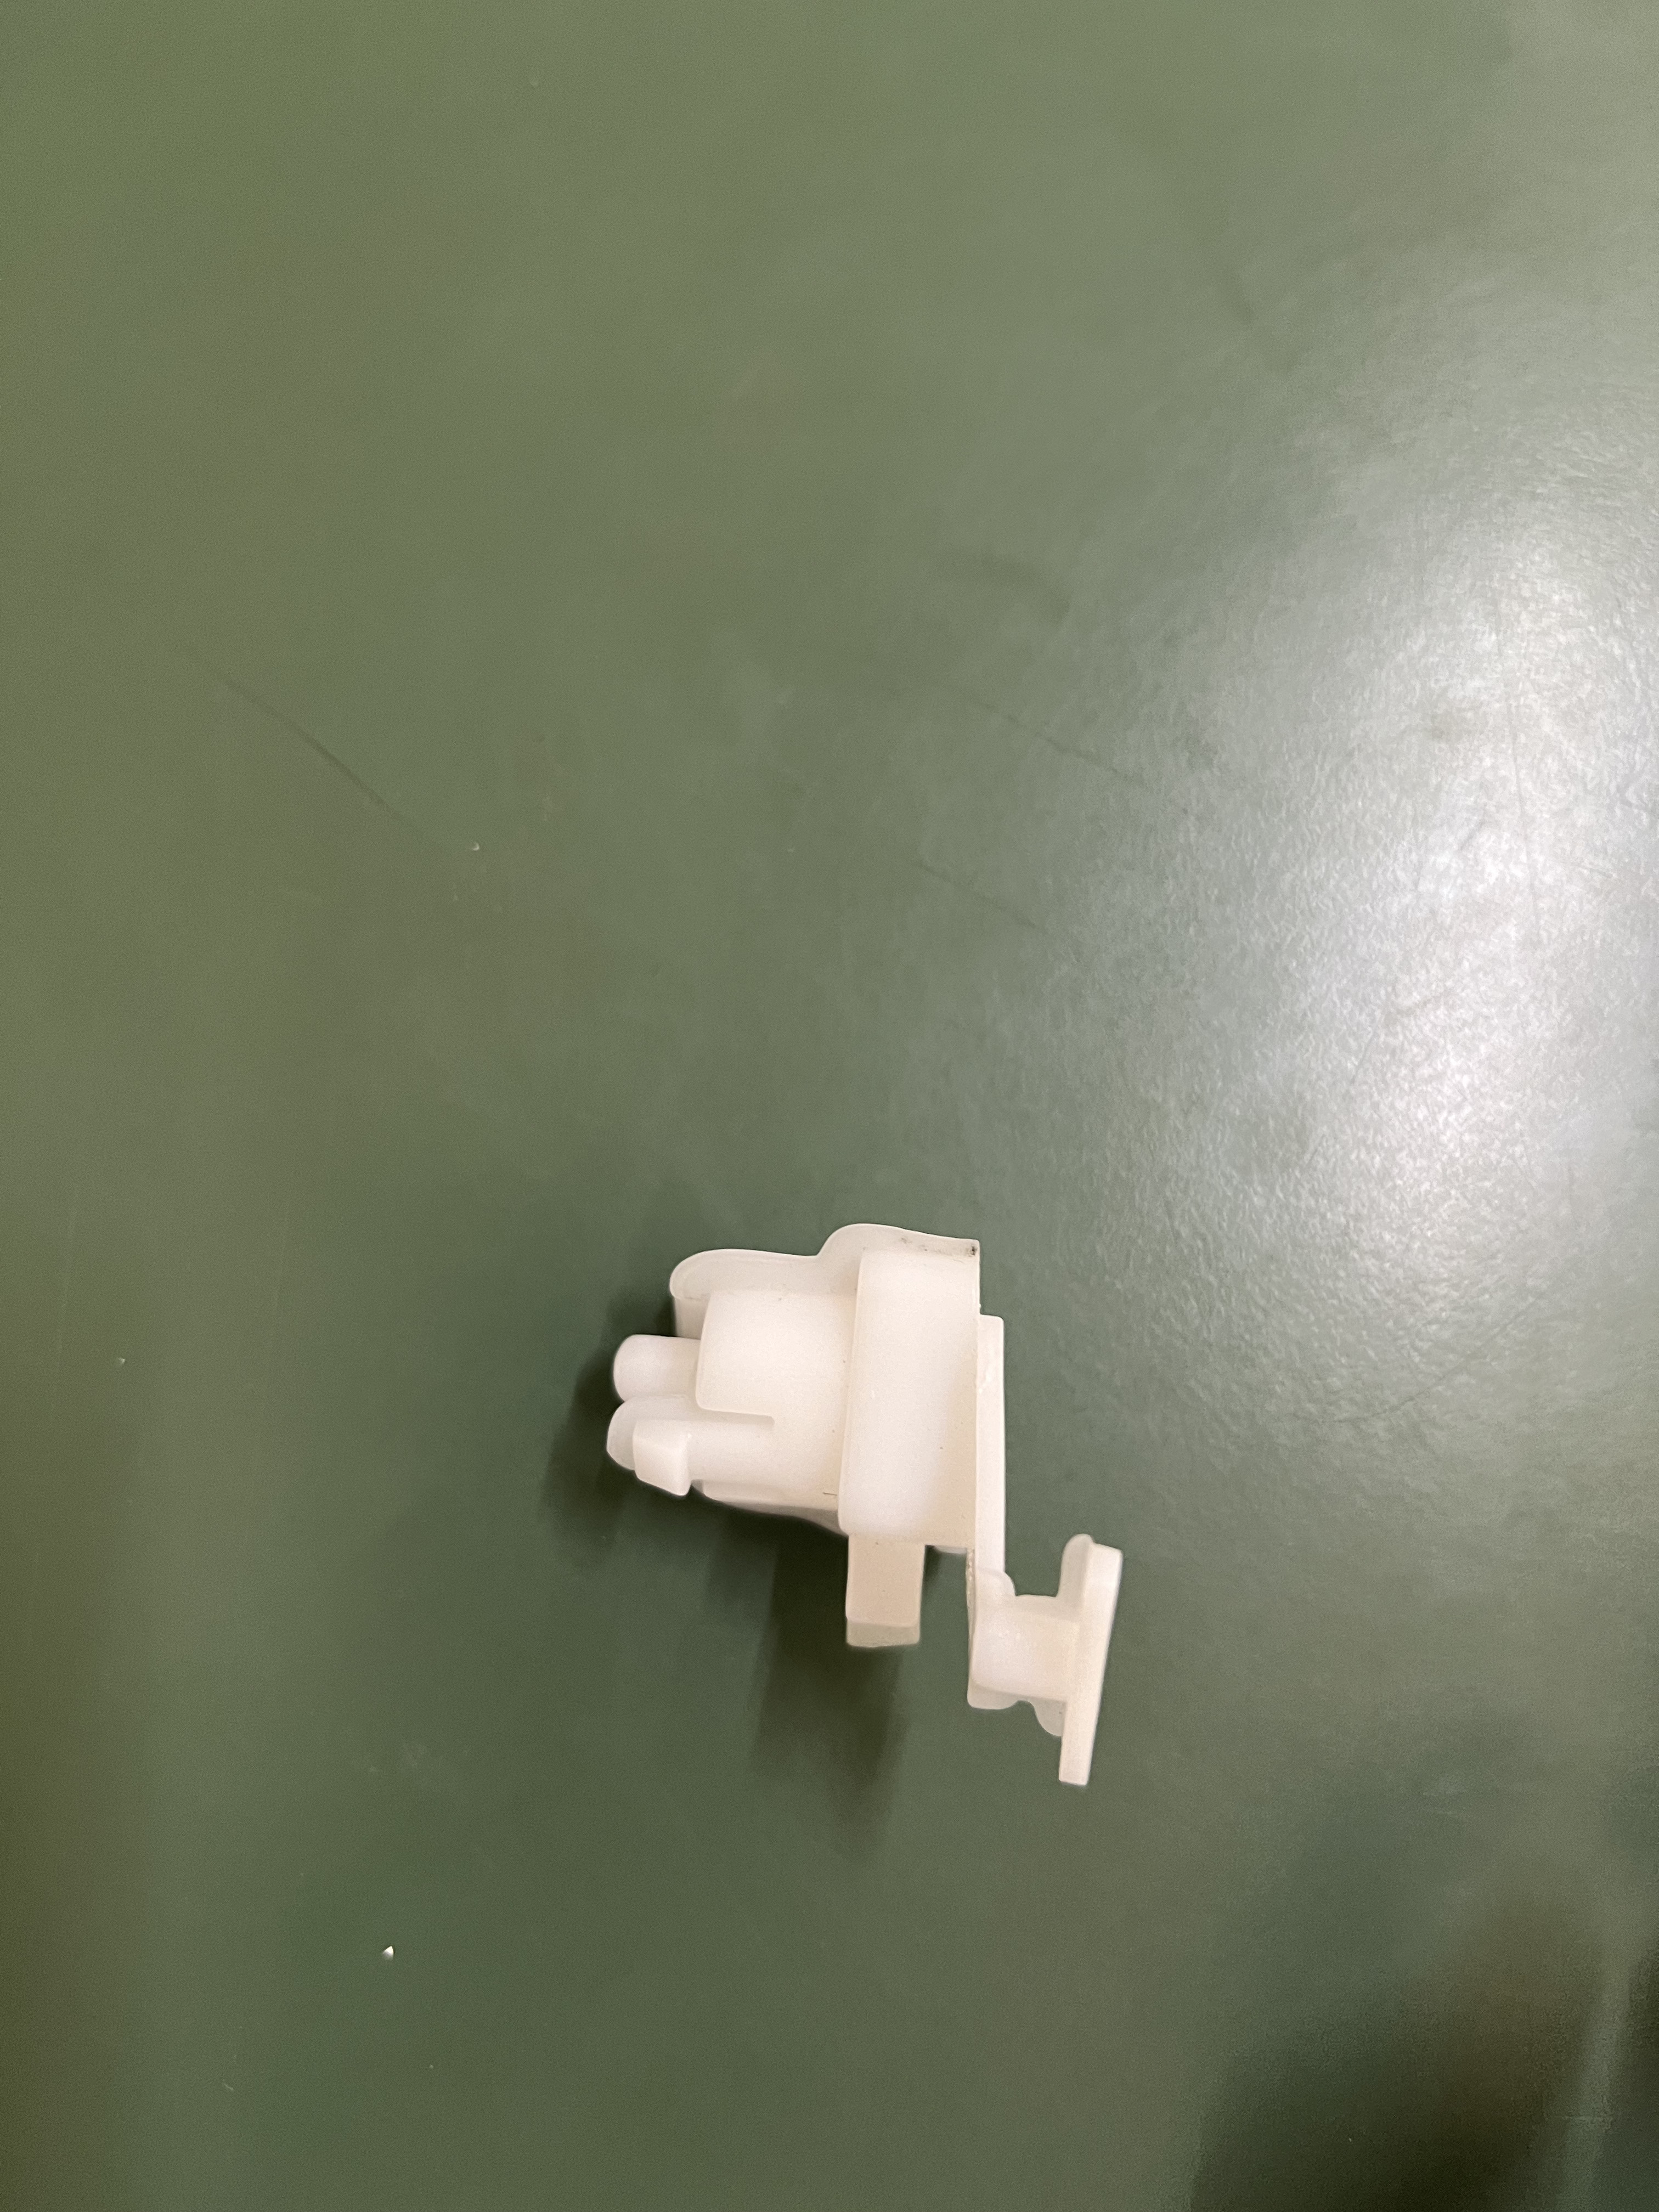drain_lever: (586, 1190, 1183, 1818)
